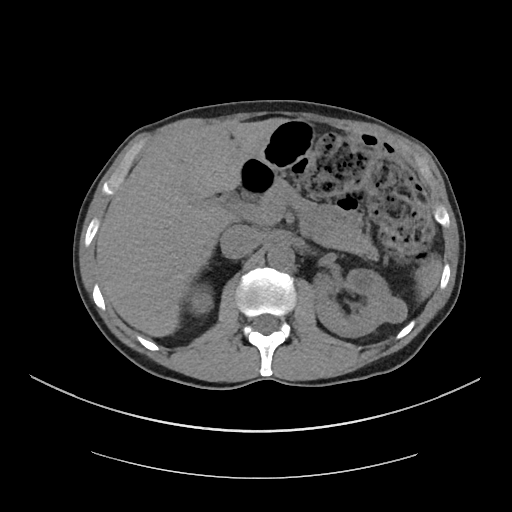Lesion: (377, 291, 410, 325)
